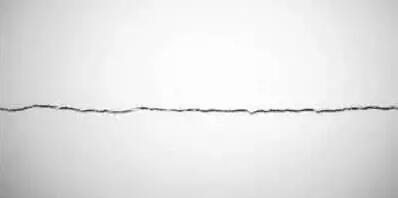crack: (2, 95, 398, 120)
